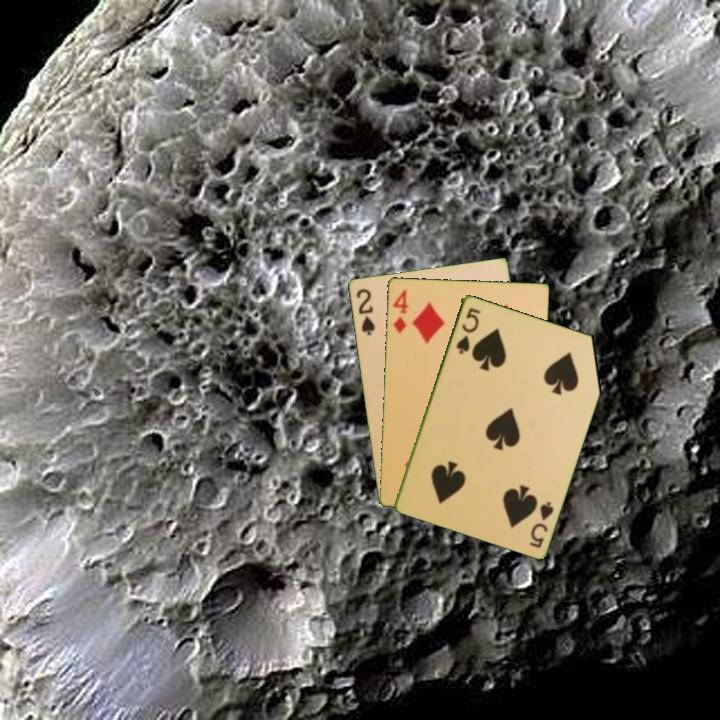2s: (352, 285, 377, 338)
4d: (389, 285, 411, 336)
5s: (452, 304, 483, 357), (526, 498, 556, 551)
